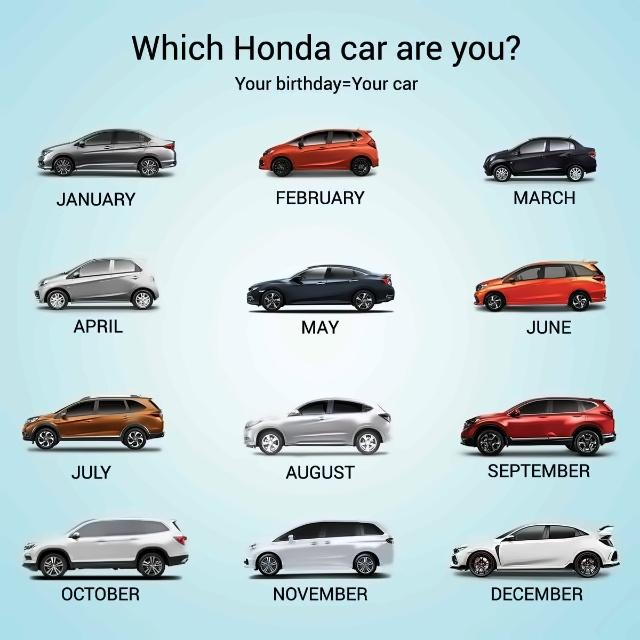Fender - -F-L-: (474, 419, 505, 433), (38, 542, 67, 556), (256, 423, 285, 435), (467, 546, 493, 559), (34, 419, 57, 431), (255, 548, 280, 559), (53, 149, 75, 161), (260, 284, 284, 294), (46, 283, 67, 292), (271, 151, 291, 160), (484, 286, 504, 295), (494, 161, 509, 169)
Fender - -R-L-: (350, 543, 380, 561), (570, 417, 599, 434), (570, 542, 600, 558), (353, 421, 382, 437), (123, 417, 146, 431), (138, 542, 164, 554), (352, 282, 374, 296), (135, 149, 160, 161), (568, 285, 591, 298), (131, 281, 154, 293), (352, 150, 370, 159), (564, 160, 585, 167)
Front bumper: (448, 554, 472, 573), (459, 426, 479, 447), (241, 428, 260, 449), (21, 551, 39, 573), (19, 422, 37, 443), (242, 552, 260, 572), (38, 157, 55, 172), (258, 156, 274, 171), (33, 289, 49, 304), (247, 293, 262, 307), (473, 291, 485, 308), (482, 163, 496, 177)
Headlight - -L-: (244, 418, 265, 431), (461, 416, 481, 429), (451, 544, 468, 555), (25, 416, 40, 425), (22, 543, 38, 551), (40, 149, 53, 157), (248, 284, 261, 292), (248, 542, 258, 551), (37, 279, 48, 287), (263, 147, 272, 156), (477, 282, 487, 289), (488, 153, 495, 161)
Passenger-s door - -F-L-: (279, 519, 324, 579), (498, 522, 547, 577), (68, 517, 114, 573), (506, 393, 551, 449), (286, 396, 331, 448), (58, 393, 96, 444), (76, 127, 117, 172), (506, 260, 543, 309), (290, 264, 329, 307), (78, 253, 110, 305), (300, 127, 331, 173), (517, 136, 548, 178)
Passenger-s door - -R-L-: (323, 518, 362, 578), (546, 393, 585, 449), (327, 395, 365, 450), (544, 521, 583, 574), (94, 393, 130, 445), (106, 253, 141, 305), (111, 517, 142, 575), (111, 127, 146, 172), (542, 260, 573, 309), (327, 263, 360, 308), (327, 127, 358, 172), (547, 135, 571, 178)
Rear bumper: (163, 548, 191, 568), (596, 547, 621, 569), (597, 418, 615, 447), (375, 544, 397, 566), (147, 419, 166, 442), (375, 421, 392, 446), (157, 150, 178, 170), (374, 286, 395, 305), (590, 284, 607, 304), (148, 283, 161, 302), (367, 151, 380, 168), (583, 159, 597, 174)
Rear light - -L-: (377, 412, 393, 424), (598, 535, 614, 547), (173, 535, 187, 547), (149, 411, 164, 421), (598, 410, 614, 419), (382, 275, 393, 286), (163, 143, 176, 152), (384, 535, 395, 545), (367, 139, 377, 149), (593, 275, 605, 283), (589, 150, 596, 160), (149, 275, 155, 283)
Side bumper - -L-: (495, 563, 575, 576), (70, 558, 136, 573), (284, 438, 356, 451), (280, 563, 355, 575), (58, 432, 122, 445), (506, 436, 573, 448), (69, 295, 132, 307), (284, 298, 352, 308), (73, 166, 140, 176), (512, 169, 568, 180), (293, 163, 352, 173), (505, 300, 569, 309)
Side mirror - -L-: (500, 535, 517, 543), (58, 411, 70, 422), (70, 530, 81, 542), (510, 408, 521, 419), (288, 410, 301, 418), (288, 534, 296, 544), (294, 276, 302, 283), (73, 272, 81, 279), (79, 141, 86, 148), (297, 143, 304, 149), (508, 277, 515, 283), (515, 151, 520, 157)
